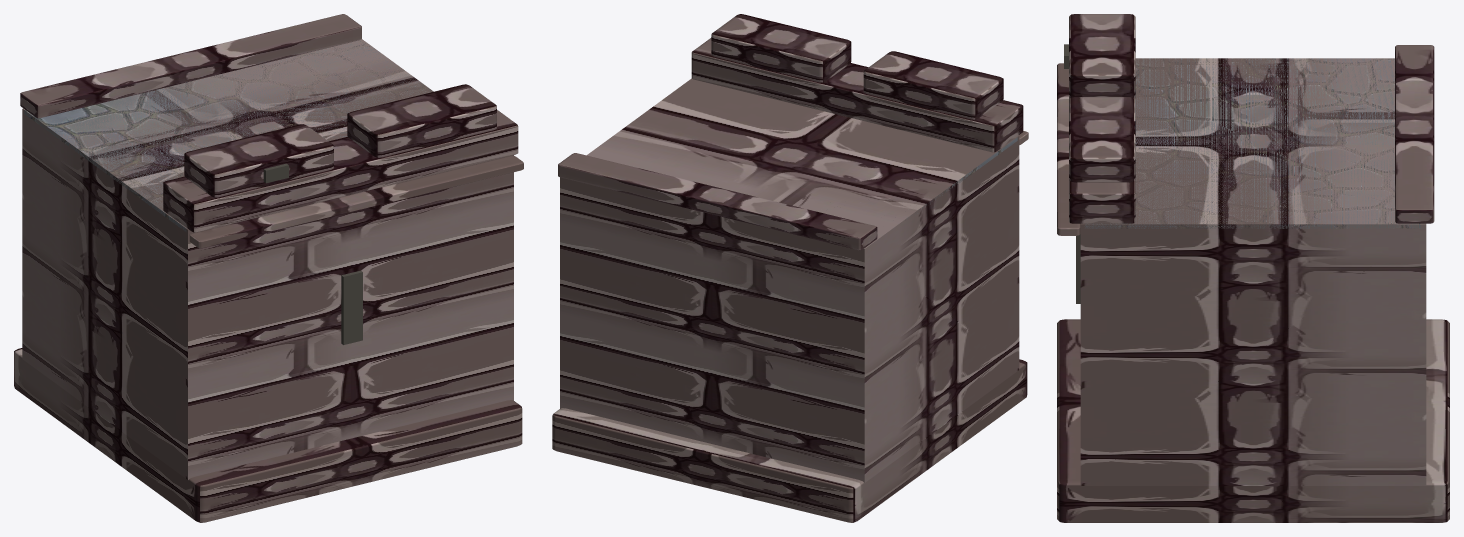
Rendered from stone_wall_battlement.glb.
3 renders of one model, left to right at view 1: azimuth 30°, elevation 25°; view 2: azimuth 150°, elevation 25°; view 3: azimuth 270°, elevation 25°, orthographic. The views are drawn at different scales.
Visible parts, largest first — view 1: prop; view 2: prop; view 3: prop.
Part boxes in pixels (bbox=[...]): prop: bbox=[14, 14, 523, 522]; prop: bbox=[552, 14, 1028, 522]; prop: bbox=[1057, 14, 1449, 522].
Bounding box in the file's own units: 1 × 1 × 1.
Materials: 3 (2 with a texture image).
